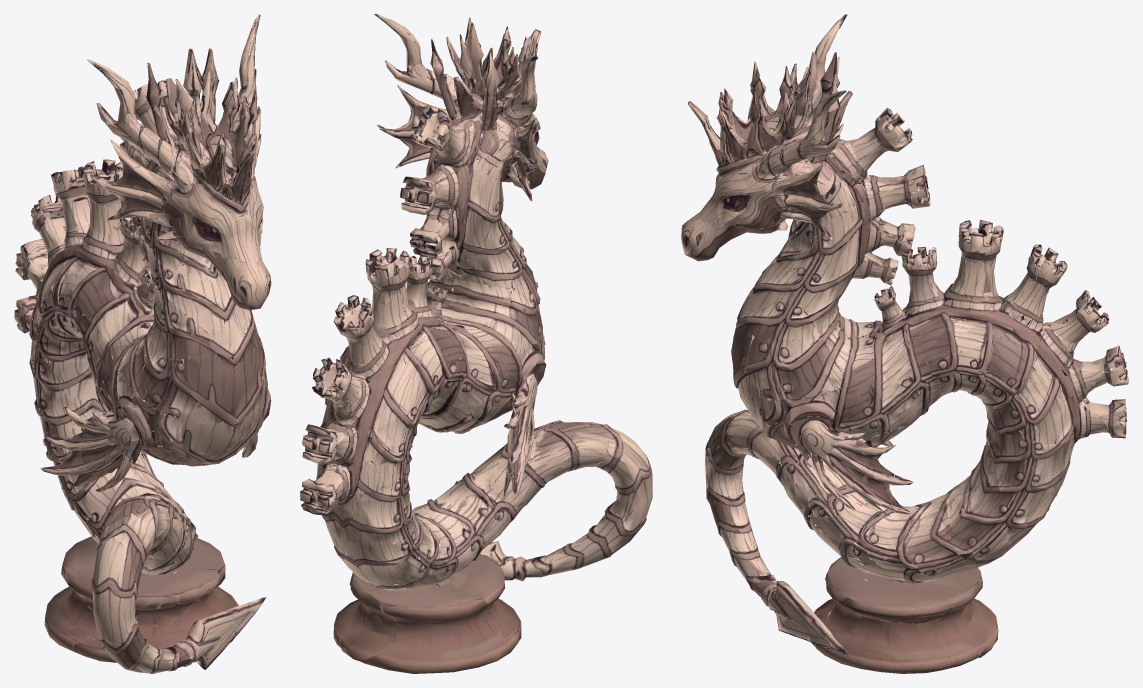
The picture shows the model from 3 angles, left to right: view 1: azimuth 30°, elevation 25°; view 2: azimuth 150°, elevation 25°; view 3: azimuth 270°, elevation 25°; orthographic projection. The views are drawn at different scales.
Visible parts, largest first — view 1: Mesh_0; view 2: Mesh_0; view 3: Mesh_0.
Part boxes in pixels (<box>): Mesh_0: <box>14,14,271,673</box>; Mesh_0: <box>300,14,652,673</box>; Mesh_0: <box>681,14,1128,673</box>.
Size of the model in its own units: 0.7889 by 1.9 by 1.32.
1 material, 1 textured.
